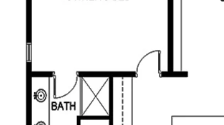door: (134, 44, 164, 80), (52, 68, 78, 101)
